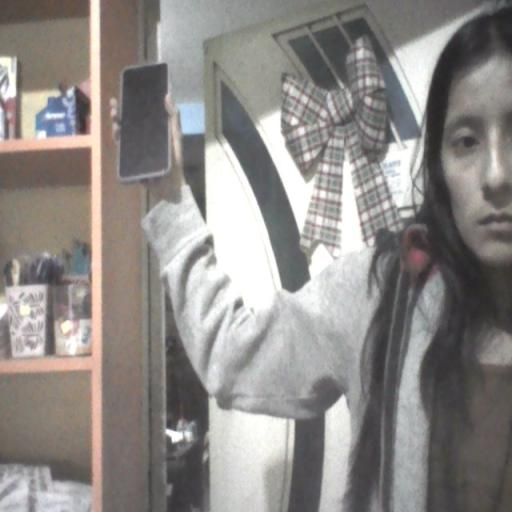phone: (118, 61, 174, 187)
